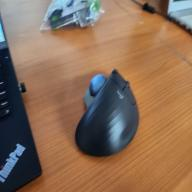mouse: (74, 68, 139, 157)
